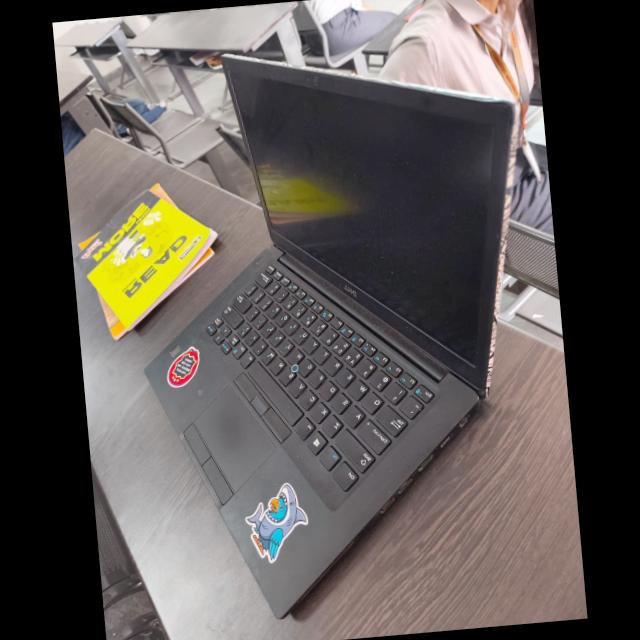laptop: (146, 34, 563, 590)
